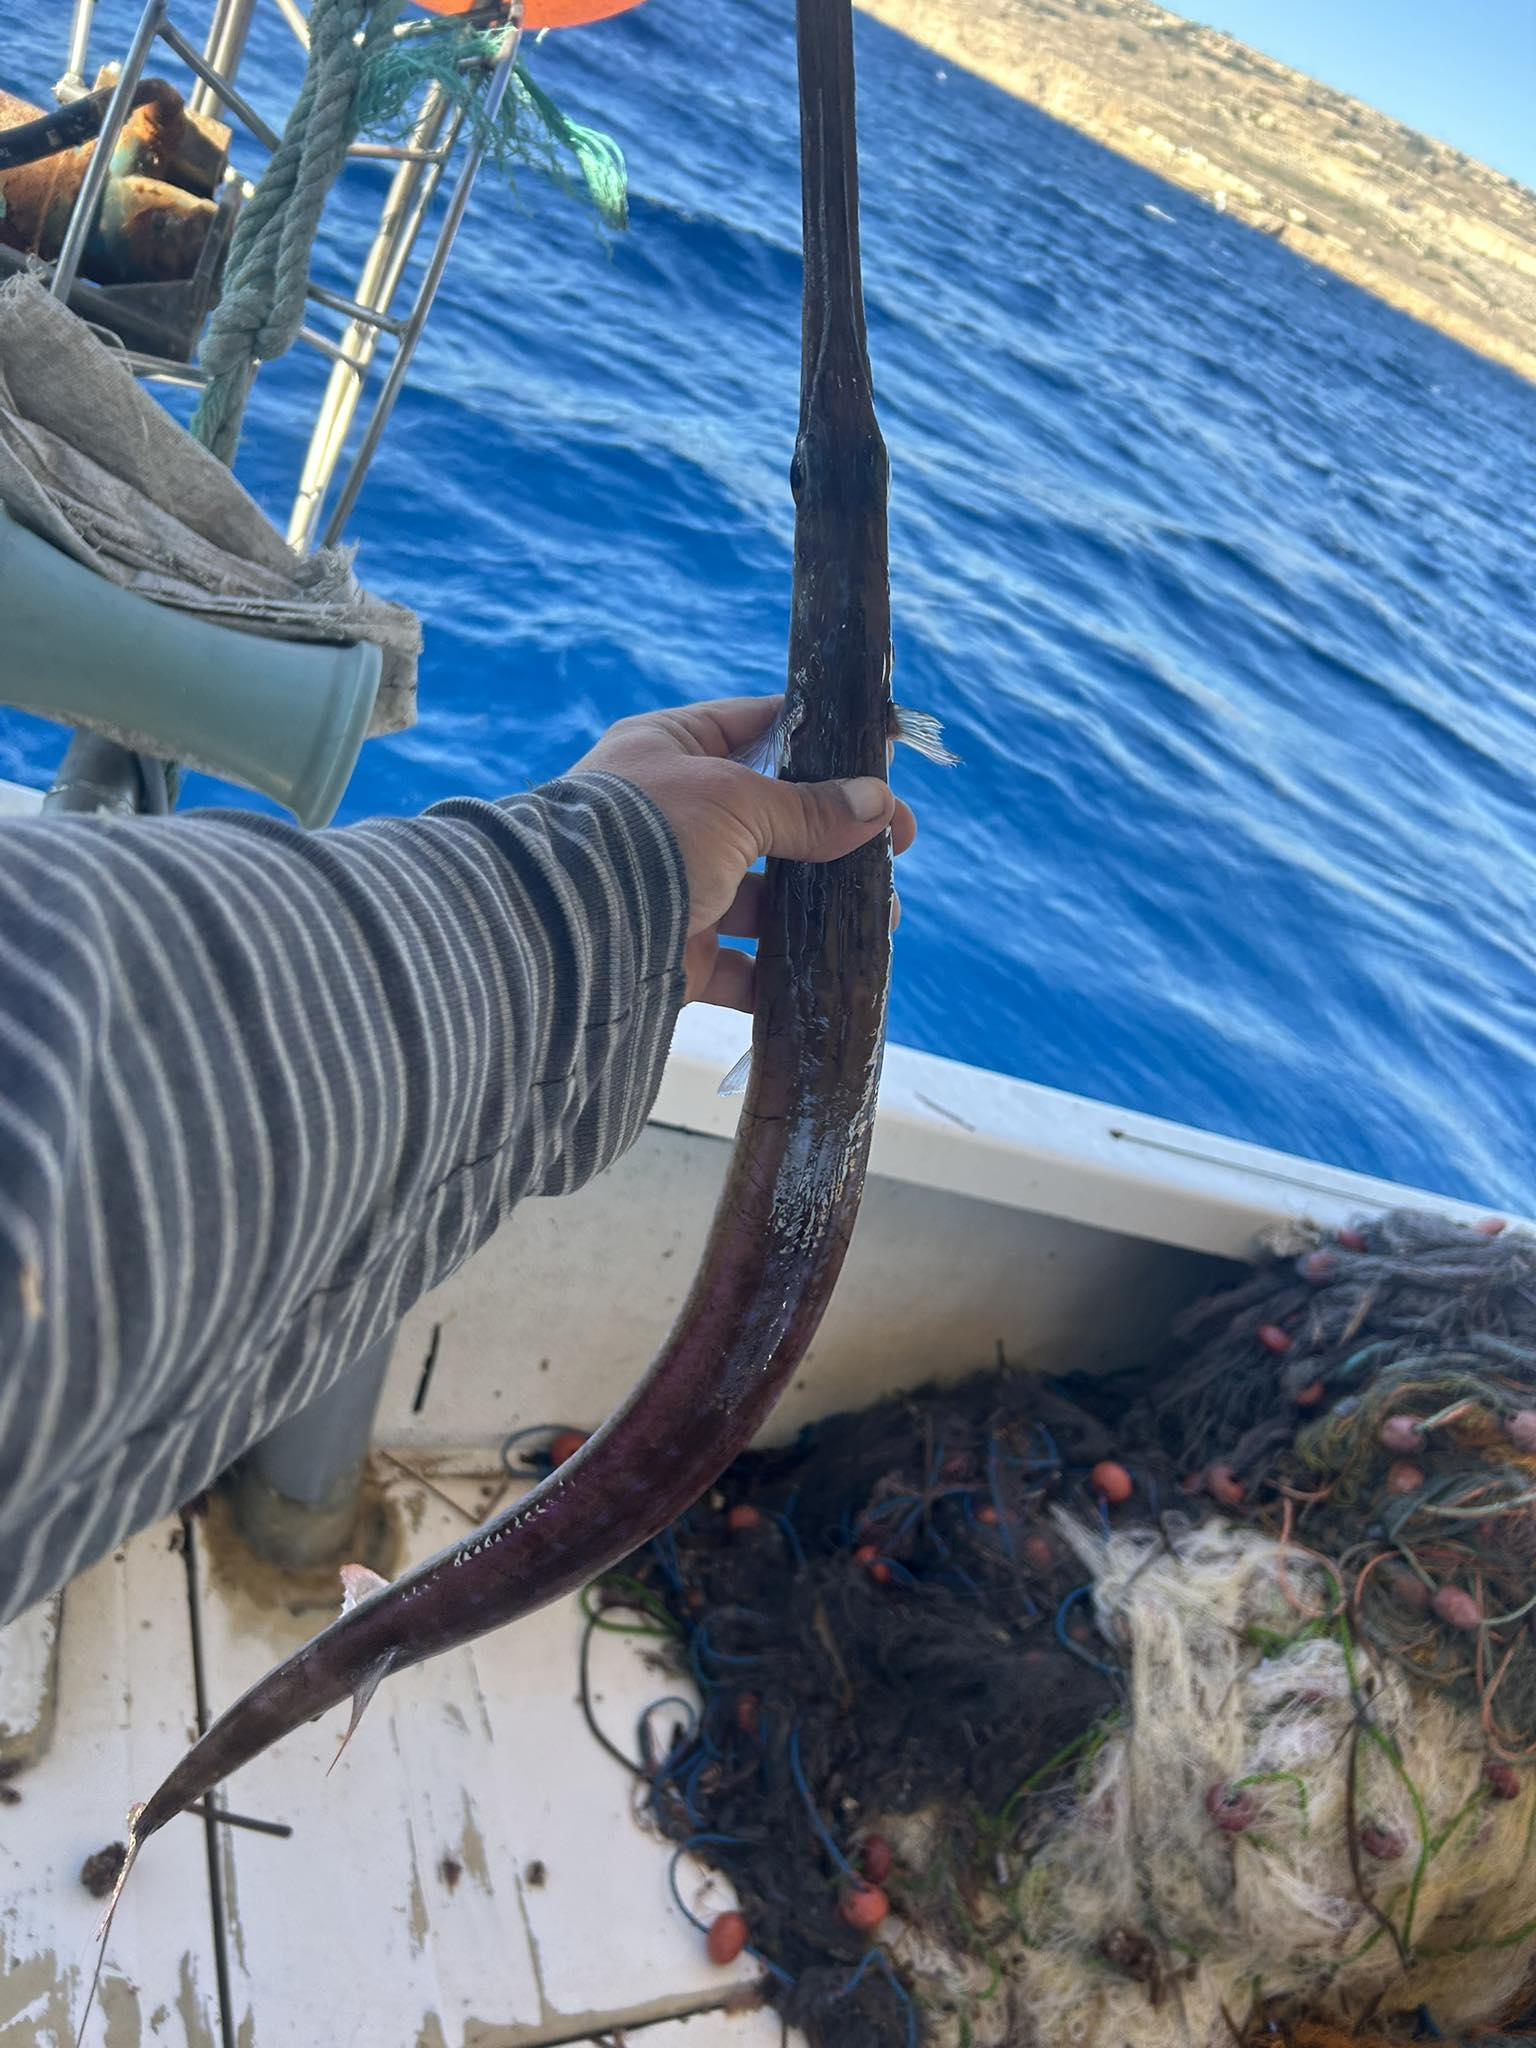Fistularia commersonii: (597, 0, 1010, 1597)
